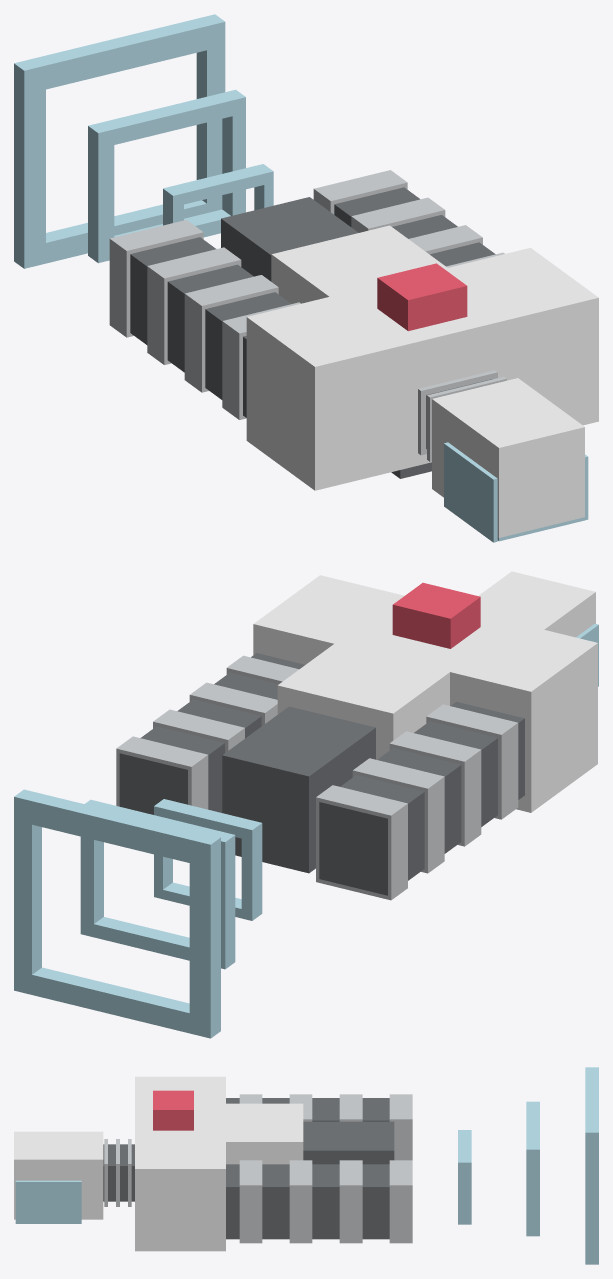
File: DylanSciFi.gltf
3 views of the same model, one above another, from view 1: azimuth 30°, elevation 25°; view 2: azimuth 150°, elevation 25°; view 3: azimuth 270°, elevation 25° (orthographic). The views are drawn at different scales.
Parts seen in each view (by area): view 1: group_0_16448250, group_0_8768998, group_0_10988977, group_0_2829873, group_0_15277357; view 2: group_0_16448250, group_0_2829873, group_0_8768998, group_0_10988977, group_0_15277357; view 3: group_0_16448250, group_0_2829873, group_0_10988977, group_0_8768998, group_0_15277357.
Boxes of the visible parts, x1=… form: group_0_16448250: x1=246, y1=225, x2=598, y2=537; group_0_8768998: x1=14, y1=14, x2=588, y2=542; group_0_10988977: x1=109, y1=170, x2=506, y2=461; group_0_2829873: x1=130, y1=187, x2=495, y2=478; group_0_15277357: x1=377, y1=263, x2=467, y2=331; group_0_16448250: x1=253, y1=571, x2=597, y2=812; group_0_2829873: x1=119, y1=653, x2=524, y2=895; group_0_8768998: x1=14, y1=623, x2=598, y2=1038; group_0_10988977: x1=116, y1=655, x2=518, y2=900; group_0_15277357: x1=392, y1=582, x2=480, y2=648; group_0_16448250: x1=14, y1=1076, x2=303, y2=1251; group_0_2829873: x1=103, y1=1098, x2=394, y2=1239; group_0_10988977: x1=104, y1=1094, x2=412, y2=1243; group_0_8768998: x1=15, y1=1067, x2=598, y2=1264; group_0_15277357: x1=153, y1=1090, x2=193, y2=1130.
Bounding box in the file's own units: 48 × 32 × 129.
